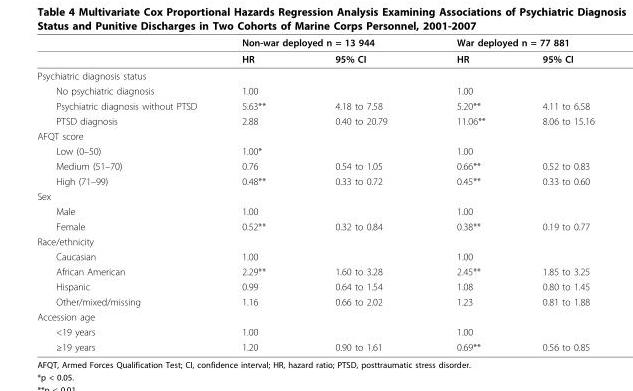table: (36, 36, 593, 352)
table column: (36, 36, 218, 352), (299, 36, 421, 352), (421, 36, 513, 352), (218, 36, 299, 352), (513, 36, 593, 352)
table column header: (36, 36, 593, 67)
table projected row header: (36, 67, 593, 82), (36, 128, 593, 143), (36, 188, 593, 203), (36, 233, 593, 248), (36, 308, 593, 323)
table row: (36, 50, 593, 67), (36, 82, 593, 98), (36, 323, 593, 339), (36, 67, 593, 82), (36, 98, 593, 113), (36, 113, 593, 128), (36, 128, 593, 143), (36, 143, 593, 158), (36, 158, 593, 173), (36, 173, 593, 188), (36, 188, 593, 203), (36, 203, 593, 218), (36, 218, 593, 233), (36, 233, 593, 248), (36, 248, 593, 263), (36, 263, 593, 278), (36, 278, 593, 293), (36, 293, 593, 308), (36, 308, 593, 323), (36, 36, 593, 50), (36, 339, 593, 352)
table spanning cell: (218, 36, 421, 50), (421, 36, 593, 50)
